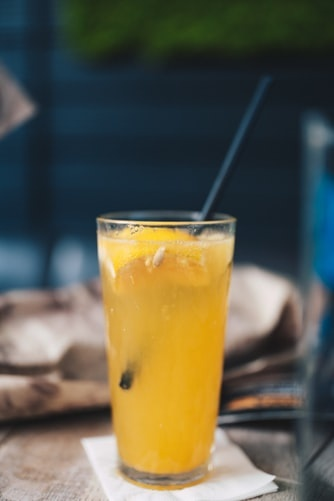whiskey: (99, 216, 236, 491)
